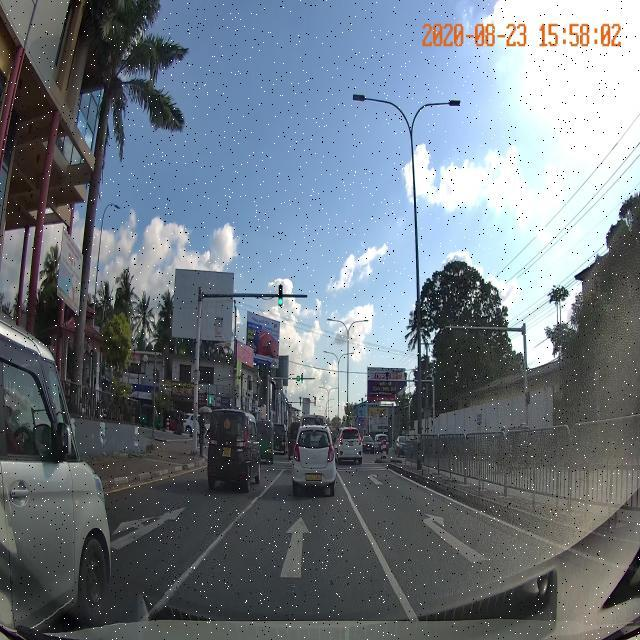forward: (164, 498, 410, 594)
